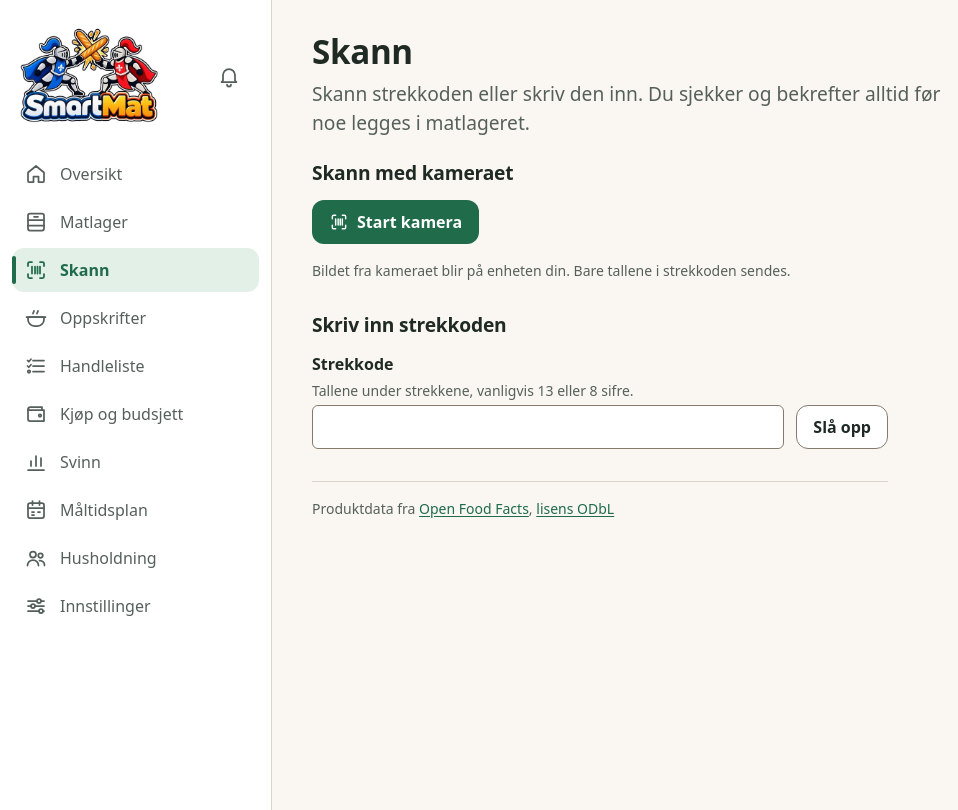
Test: FR-SCAN-001 camera states › NotAllowedError → "Ingen tilgang til kameraet", and the code can still be typed
The width and height of the screenshot is (958, 810).
Click the button "Start kamera": (396, 222) top-left (312, 200), bottom-right (479, 244)
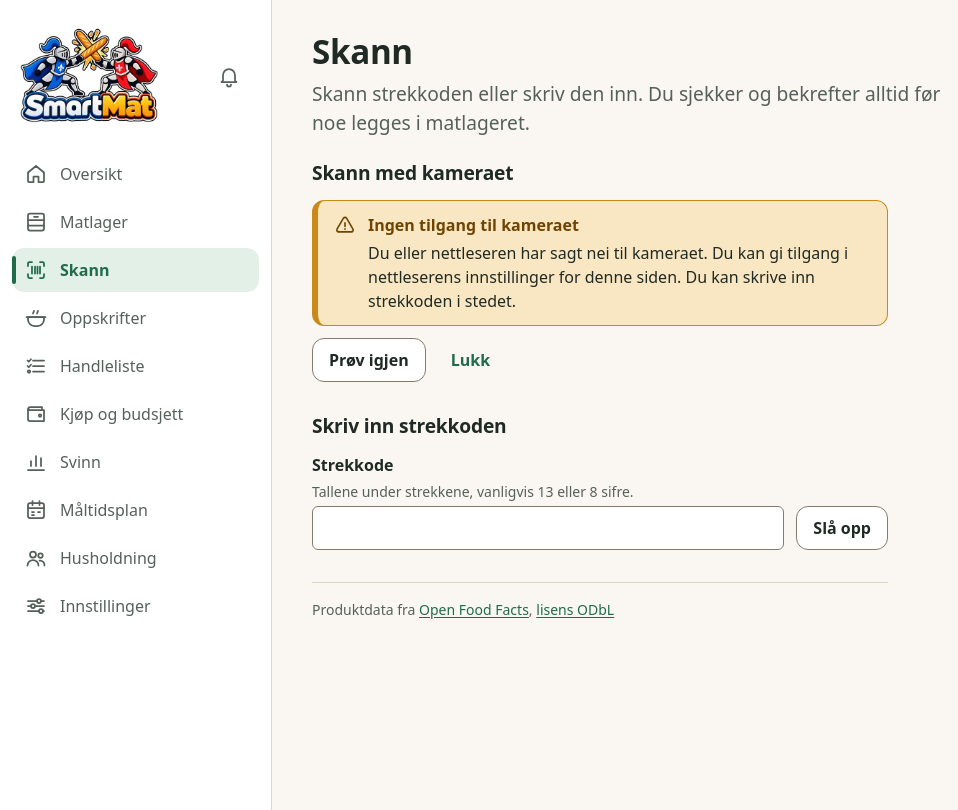
Expected: the field labelled "Strekkode" is shown, top-left (312, 506), bottom-right (784, 550)
Now the text "Ingen tilgang til kameraet" is shown, box top-left (368, 214), bottom-right (579, 236)
Now the text "Du kan skrive inn strekkoden i stedet" is shown, box top-left (368, 266), bottom-right (815, 312)
